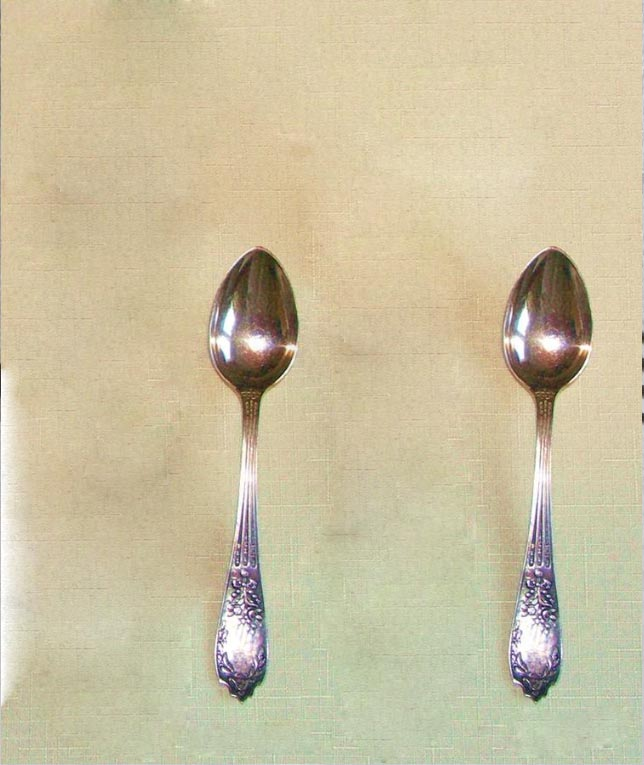Lyzka: (200, 241, 308, 394), (498, 246, 600, 395)
